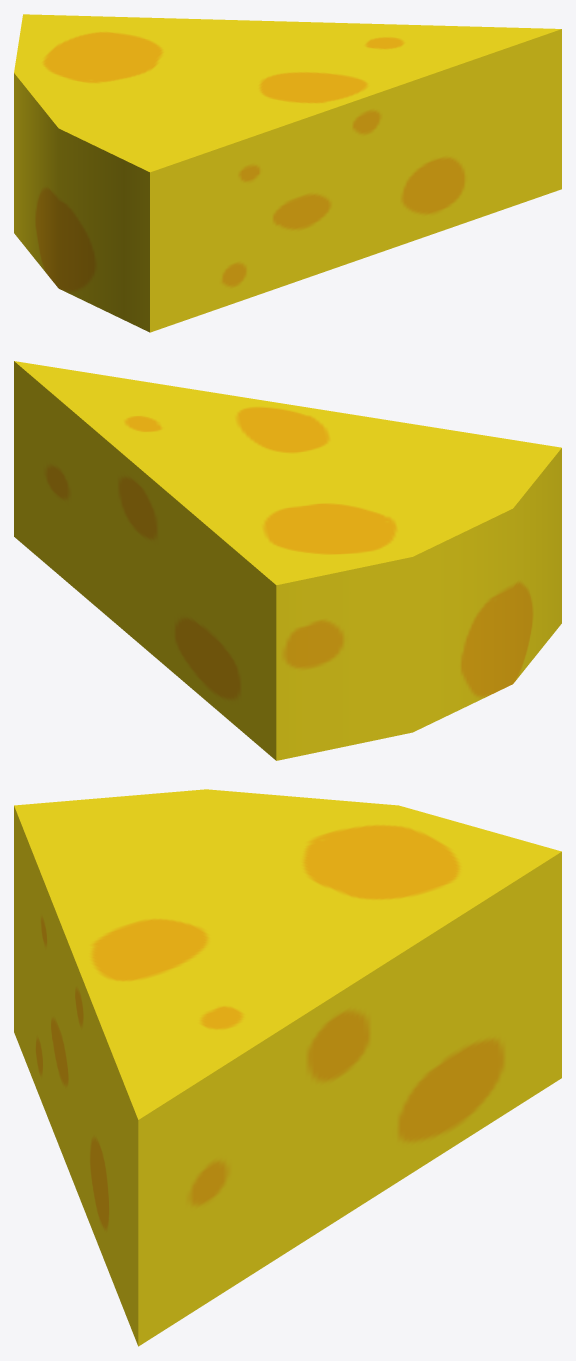
File: cheese.FBX
3 views of the same model, one above another, from view 1: azimuth 30°, elevation 25°; view 2: azimuth 150°, elevation 25°; view 3: azimuth 270°, elevation 25° (orthographic). The views are drawn at different scales.
Parts seen in each view (by area): view 1: Cylinder118; view 2: Cylinder118; view 3: Cylinder118.
Part boxes in pixels (x1,y1,x2,y2): Cylinder118: [14, 14, 561, 332]; Cylinder118: [14, 361, 561, 760]; Cylinder118: [14, 789, 561, 1346].
Size of the model in its own units: 1.84 by 0.5872 by 1.29.
